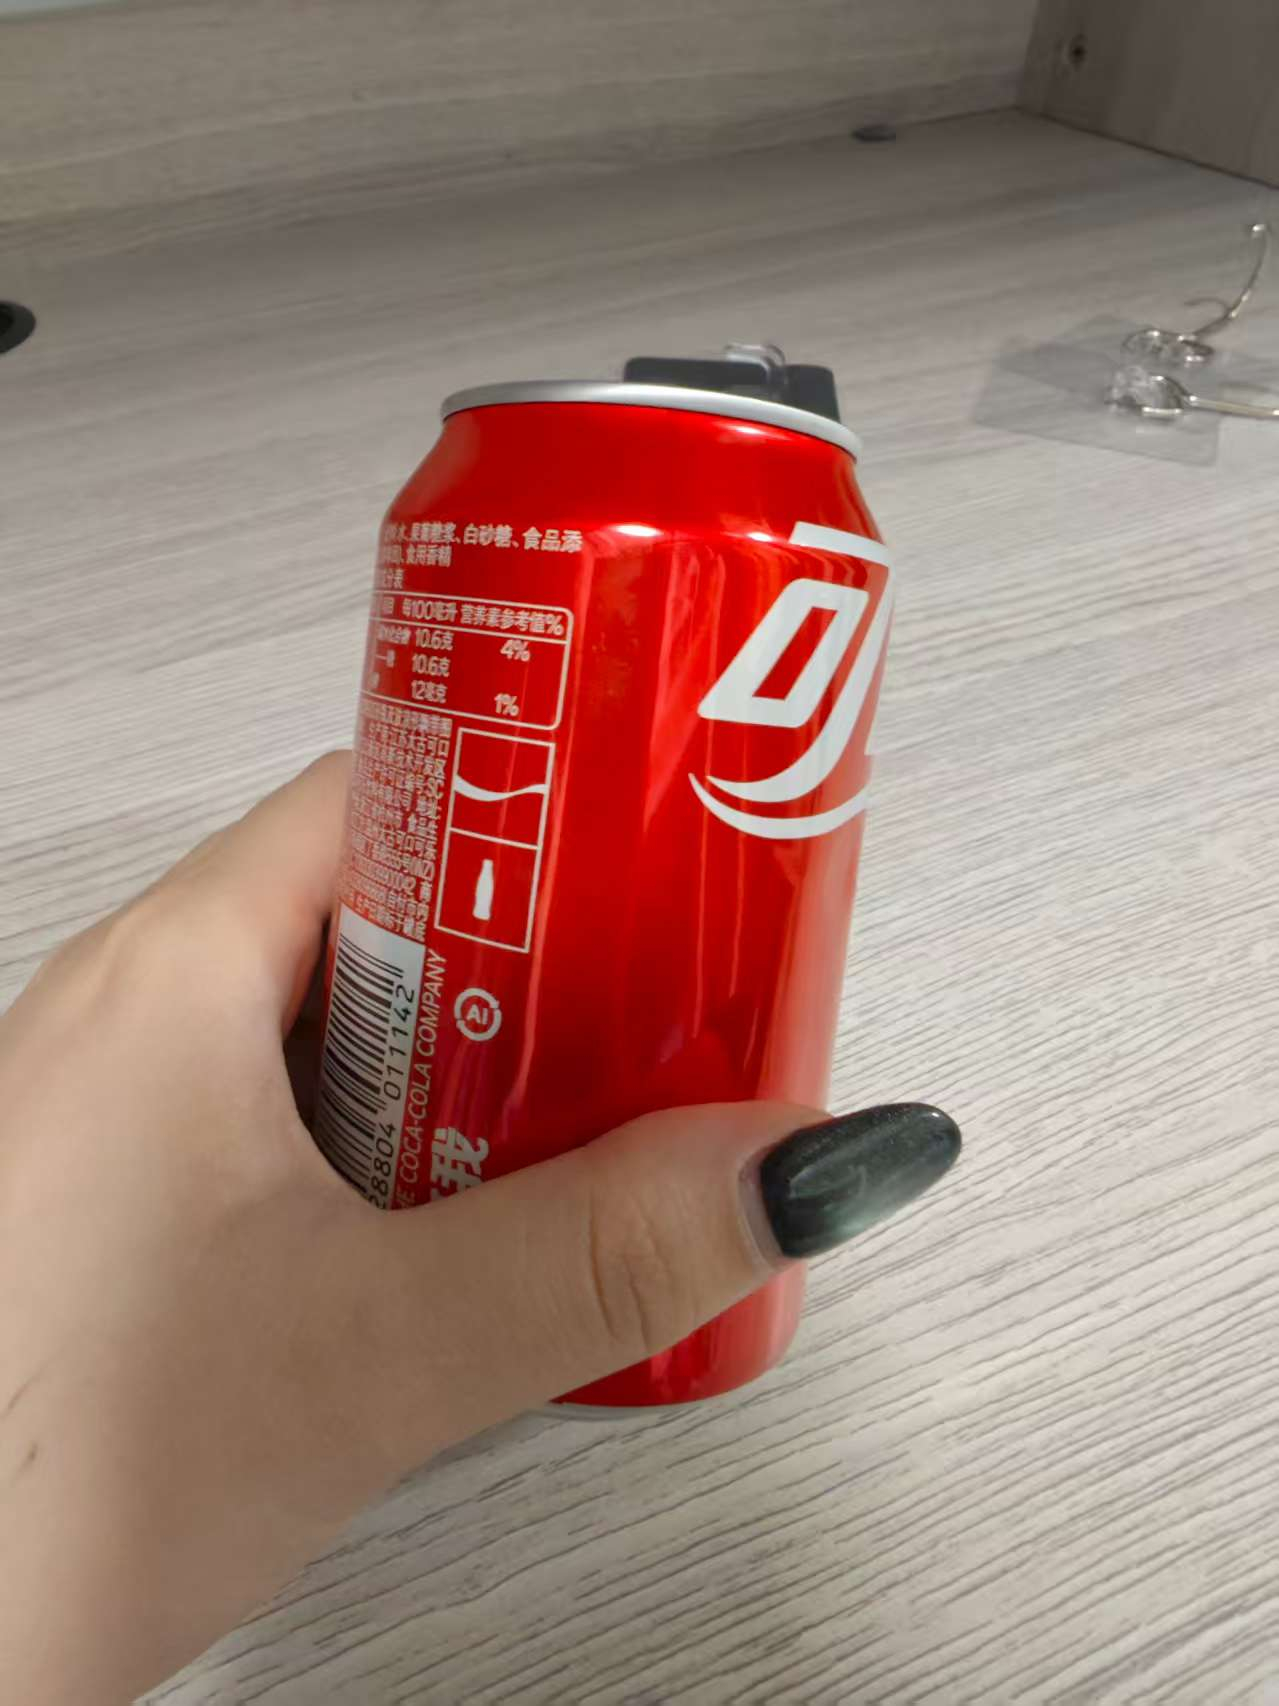可乐: (324, 348, 876, 1427)
